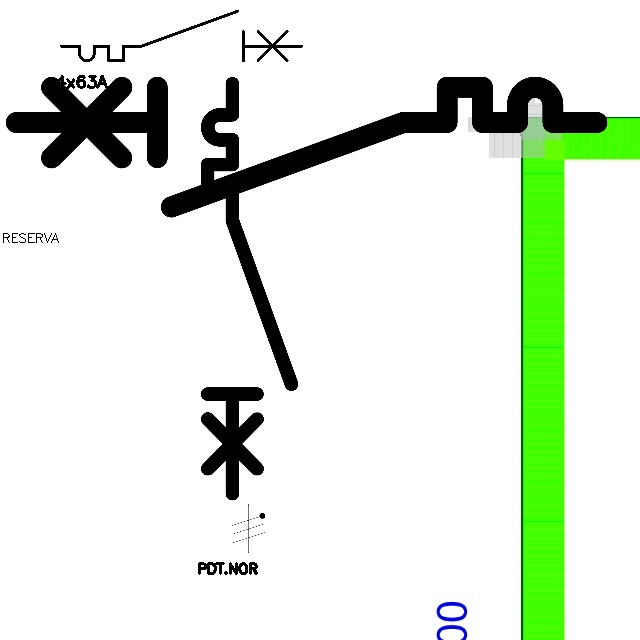interruptor_termomagnetico: (1, 72, 612, 221), (197, 73, 302, 504), (55, 5, 308, 67)
